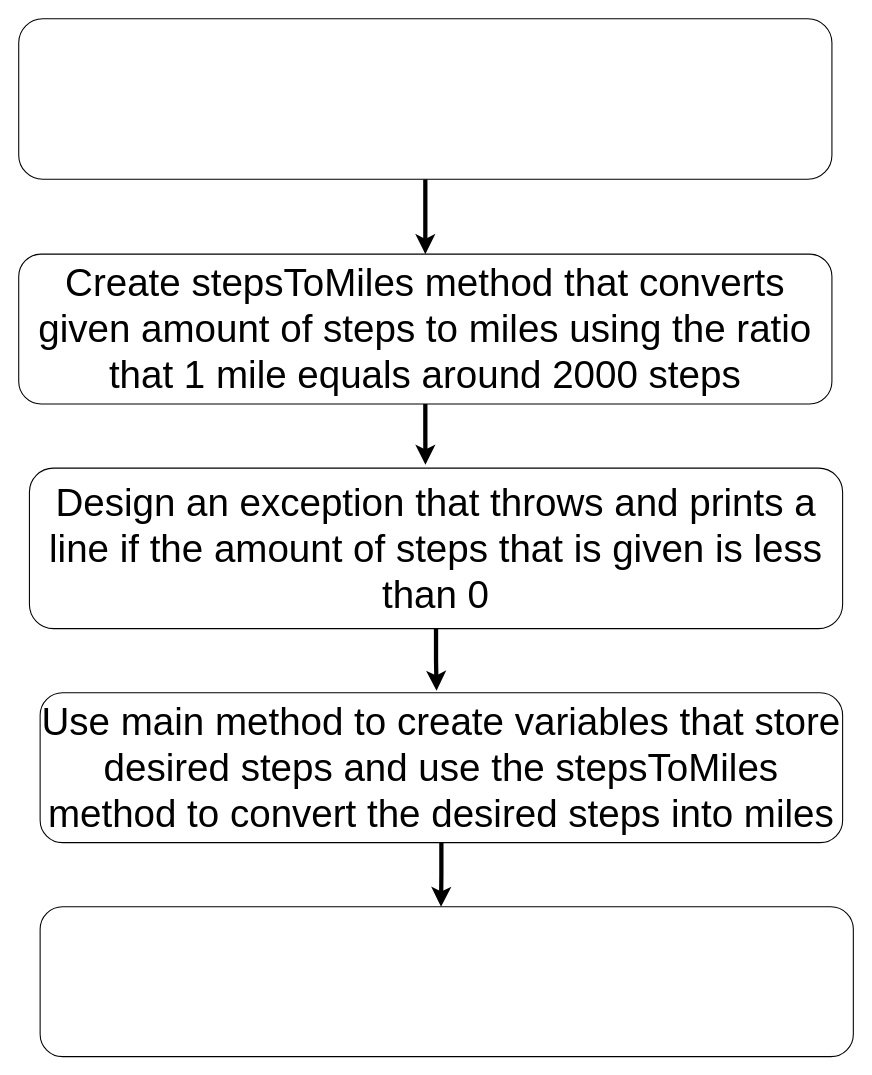
The diagram is 872 pixels wide and 1075 high, and some of its shapes have lost their labels. Here are the shapes that lost their labels. From the top down, the box of each, then its label:
(18, 18, 832, 179): Declare Pedometer Class that is designed to track amount of miles walked
(39, 906, 853, 1057): Print out the variable that stored what the stepsToMiles method returned
